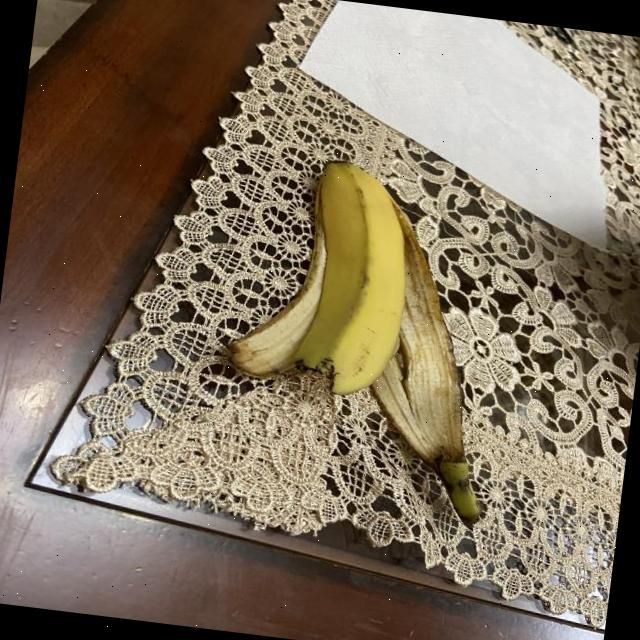banana-peel: (208, 148, 520, 523), (346, 191, 518, 522), (290, 156, 420, 402)
